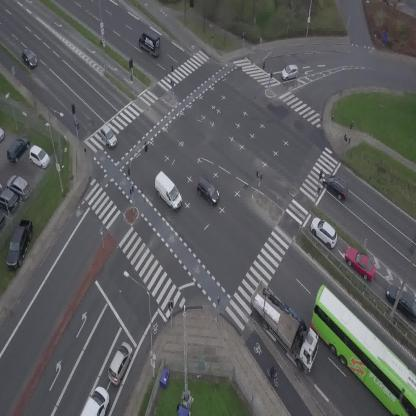bicycle: (266, 364, 280, 388)
car: (340, 241, 382, 285), (103, 340, 137, 387), (305, 213, 343, 250), (317, 169, 354, 204), (81, 383, 116, 416), (192, 176, 224, 207), (94, 123, 121, 149), (18, 47, 40, 70), (279, 63, 300, 81)
lorry: (239, 275, 332, 376), (147, 170, 188, 212), (134, 28, 168, 60)
